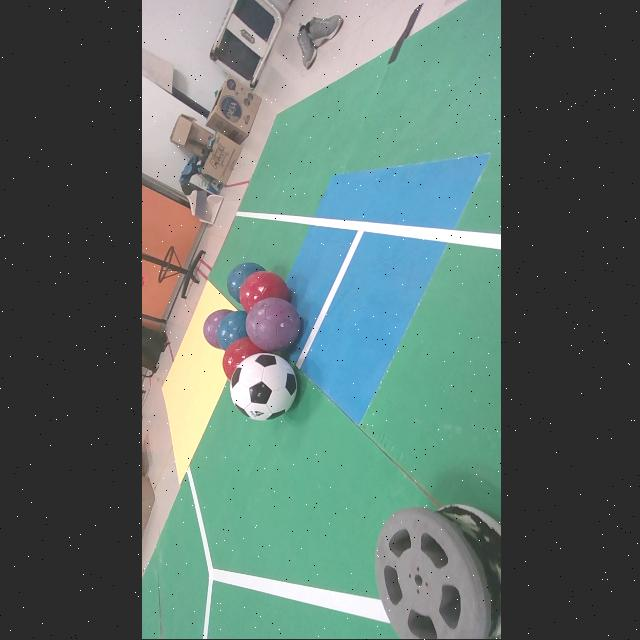B: (225, 262, 262, 304), (215, 311, 246, 350)
P: (244, 298, 299, 352), (202, 310, 230, 349)
R: (238, 271, 289, 313), (221, 337, 262, 379)
